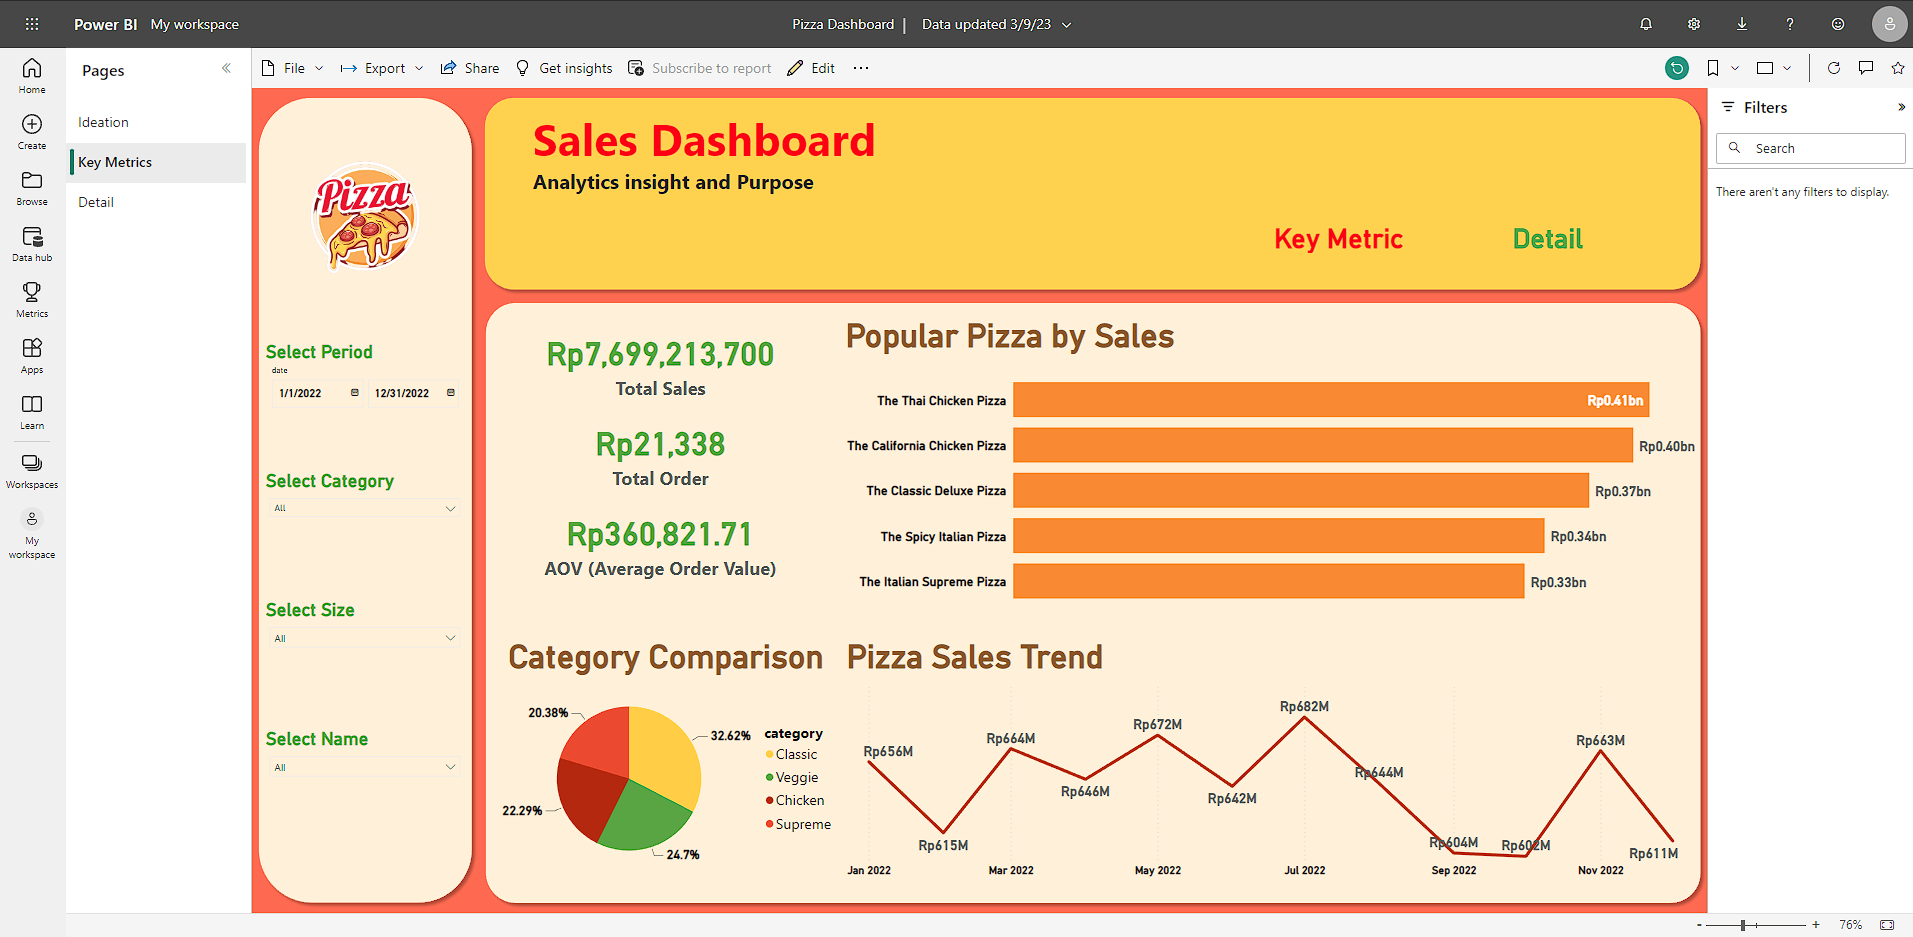

What the dashboard file says about the page in this screenshot:
{"tool":"powerbi","page":{"name":"Key Metrics","canvas":[1920,1080],"ordinal":1},"visuals":[{"type":"shape","box":[299.1,269.9,1620.9,809.7],"z":0},{"type":"shape","box":[0,0,299.1,1079.6],"z":1000},{"type":"card","fields":{"Values":["FACT_ORDER_DETAIL.Total Sales"]},"box":[299.2,297.7,479.3,119.1],"z":2000},{"type":"clusteredBarChart","title":"Popular Pizza by Sales","fields":{"Category":["FACT_ORDER_DETAIL.Pizza_name"],"Y":["FACT_ORDER_DETAIL.Total Sales"]},"box":[778.5,297.7,1131.4,402.3],"z":3000},{"type":"lineChart","title":"Pizza Sales Trend ","fields":{"Y":["FACT_ORDER_DETAIL.Total Sales"],"Category":["FACT_ORDER_DETAIL.date.Variation.Date Hierarchy.Year","FACT_ORDER_DETAIL.date.Variation.Date Hierarchy.Month"]},"box":[779.9,721.8,1131.4,322.4],"z":4000},{"type":"card","fields":{"Values":["FACT_ORDER_DETAIL.Total Order"]},"box":[299.2,416.8,479.3,119.1],"z":5000},{"type":"card","fields":{"Values":["FACT_ORDER_DETAIL.AOV (Average Order Value)"]},"box":[299.2,535.9,479.3,119.1],"z":6000},{"type":"pieChart","title":"Category Comparison","fields":{"Y":["FACT_ORDER_DETAIL.Total Sales"],"Category":["FACT_ORDER_DETAIL.category"]},"box":[313.7,721.8,464.8,322.4],"z":7000},{"type":"image","box":[45,61,209.1,209.1],"z":8000},{"type":"slicer","title":"Select Period","fields":{"Values":["FACT_ORDER_DETAIL.date"]},"box":[13.1,330,271.6,94.4],"z":9000},{"type":"slicer","title":"Select Category","fields":{"Values":["FACT_ORDER_DETAIL.category"]},"box":[13.1,500,271.6,94.4],"z":10000},{"type":"slicer","title":"Select Size","fields":{"Values":["FACT_ORDER_DETAIL.size"]},"box":[13.1,670,271.6,94.4],"z":11000},{"type":"shape","box":[298.4,0,1621.6,270.5],"z":11500},{"type":"slicer","title":"Select Name","fields":{"Values":["FACT_ORDER_DETAIL.Pizza_name"]},"box":[13.1,840,271.6,94.4],"z":12000},{"type":"textbox","box":[366.1,17.6,486.6,138.2],"z":15500},{"type":"actionButton","title":"Key Metric","box":[1295.2,155.8,276.4,75],"z":15750},{"type":"actionButton","title":"Key Metric","box":[1571.6,155.8,276.4,75],"z":16500}]}

Visuals, with their boxes on the page's 1920x1080 design canvas (x1, y1, x2, y2). These are canvas units, not pixel positions in the 1913x937 screenshot, which may show the page scaled, cropped or inside an application window:
shape: BBox(299, 270, 1920, 1080)
shape: BBox(0, 0, 299, 1080)
card - FACT_ORDER_DETAIL.Total Sales: BBox(299, 298, 778, 417)
"Popular Pizza by Sales" clusteredBarChart: BBox(778, 298, 1910, 700)
"Pizza Sales Trend " lineChart: BBox(780, 722, 1911, 1044)
card - FACT_ORDER_DETAIL.Total Order: BBox(299, 417, 778, 536)
card - FACT_ORDER_DETAIL.AOV (Average Order Value): BBox(299, 536, 778, 655)
"Category Comparison" pieChart: BBox(314, 722, 778, 1044)
image: BBox(45, 61, 254, 270)
"Select Period" slicer: BBox(13, 330, 285, 424)
"Select Category" slicer: BBox(13, 500, 285, 594)
"Select Size" slicer: BBox(13, 670, 285, 764)
shape: BBox(298, 0, 1920, 270)
"Select Name" slicer: BBox(13, 840, 285, 934)
textbox: BBox(366, 18, 853, 156)
"Key Metric" actionButton: BBox(1295, 156, 1572, 231)
"Key Metric" actionButton: BBox(1572, 156, 1848, 231)
